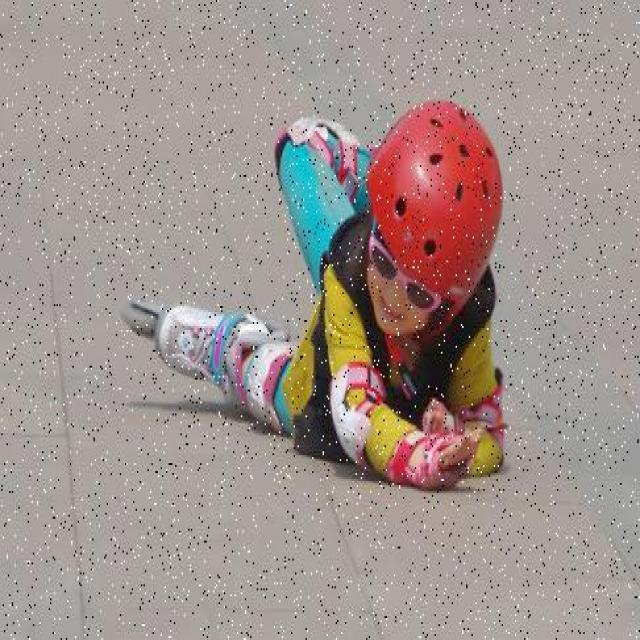fall: (187, 119, 515, 465)
